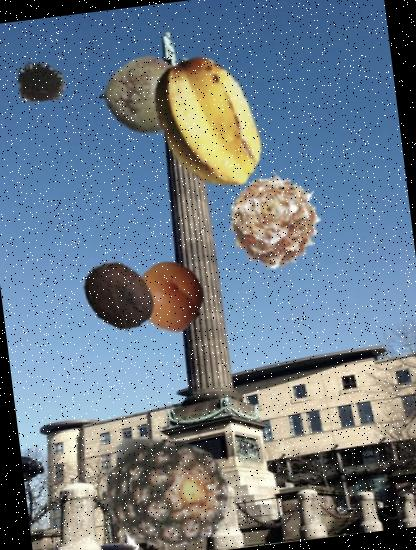Apricot: (132, 258, 209, 335)
Carambula: (130, 46, 284, 201)
Cocos: (76, 254, 162, 338)
Pear: (93, 30, 228, 164)
Pineapple: (96, 421, 239, 550), (220, 165, 332, 276)
Rambutan: (12, 55, 70, 113)
